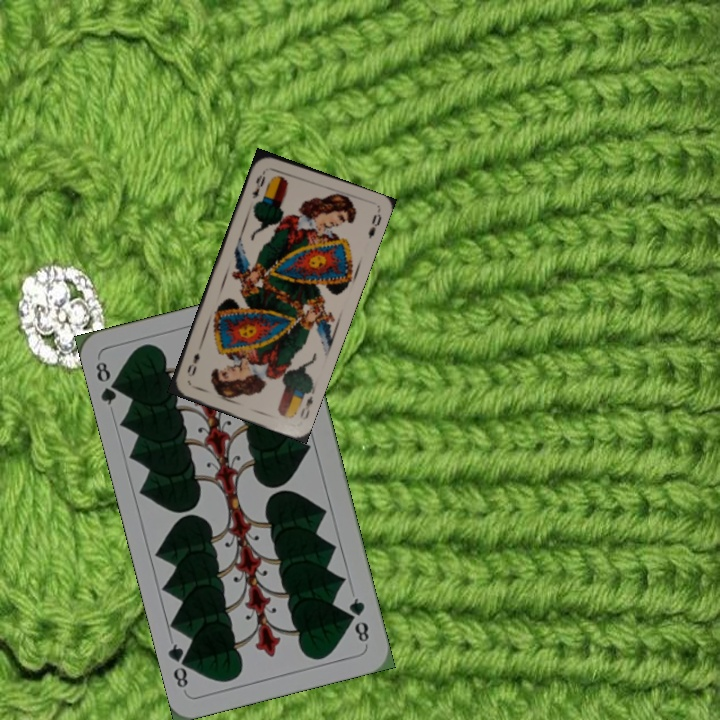EO: (291, 385, 317, 422), (247, 166, 268, 201)
G8: (91, 357, 124, 408), (344, 594, 372, 648)
